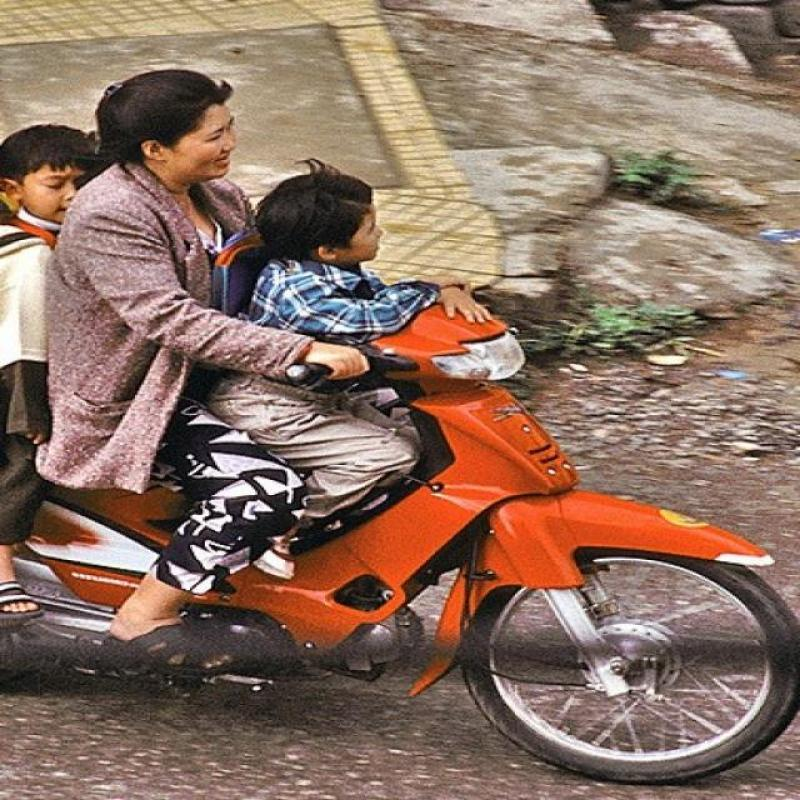nohelmet: (84, 29, 282, 210)
